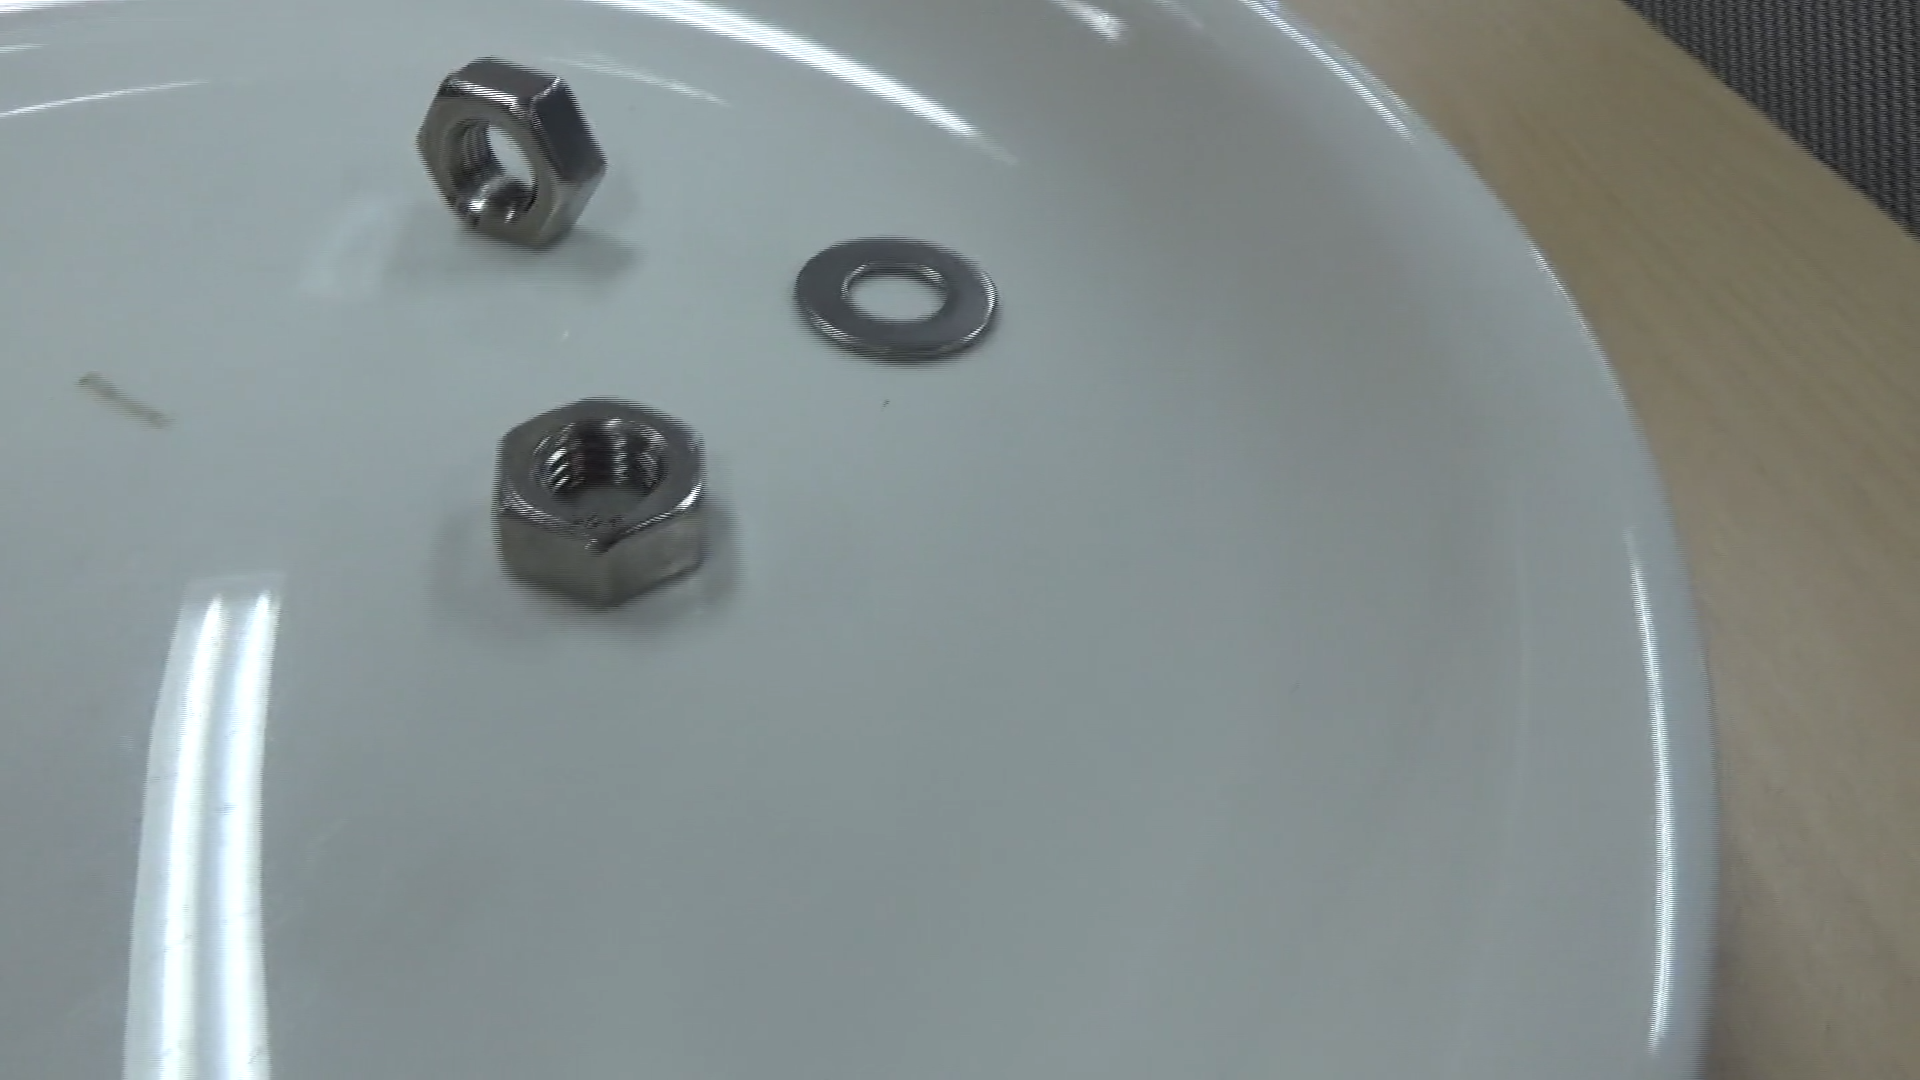nut: (487, 396, 715, 607), (415, 51, 611, 248)
washer: (793, 229, 993, 364)
